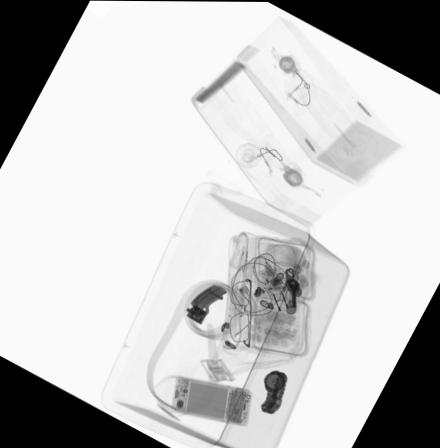Lighter: (259, 263, 292, 317)
